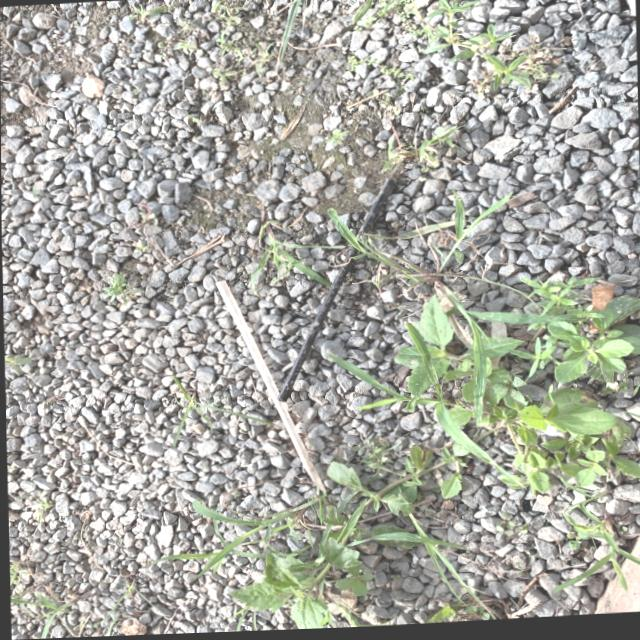Plastic: (265, 175, 409, 412), (206, 271, 333, 513)
